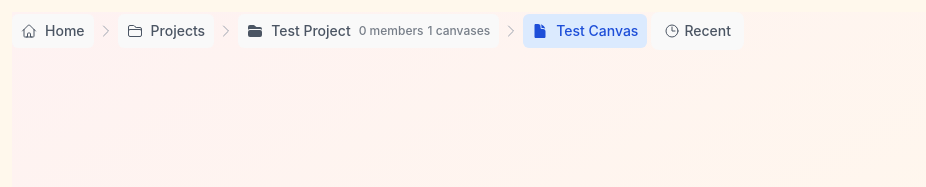
ProjectBreadcrumb › Recent Items › should load recent items from localStorage
Click the button "Recent".
click(698, 31)  # box [651,12,744,50]
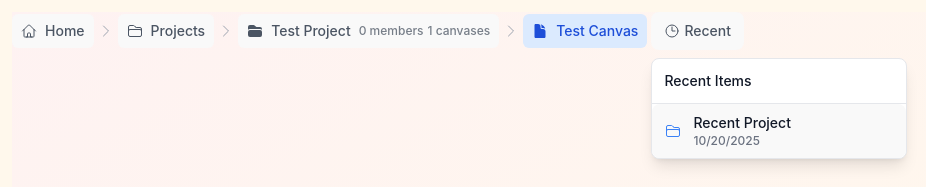
Check: the text "Recent Project" is shown, box [693,114,791,131]
